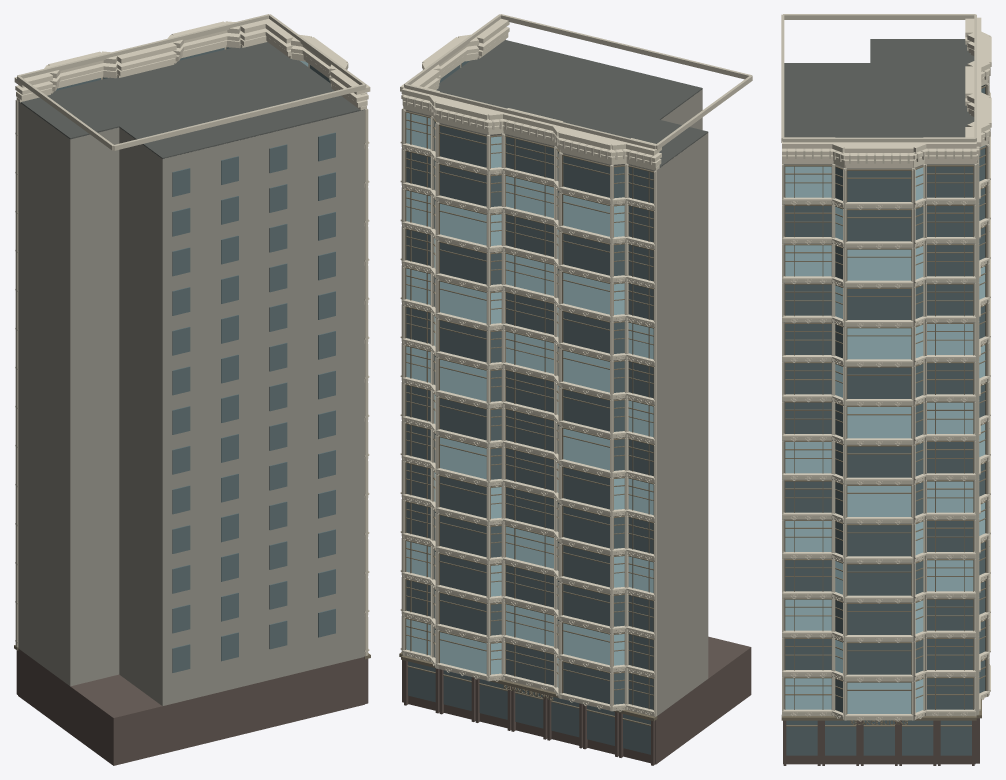
The model's file is reliance_building.glb.
The picture shows the model from 3 angles, left to right: view 1: azimuth 30°, elevation 25°; view 2: azimuth 150°, elevation 25°; view 3: azimuth 270°, elevation 25°; orthographic projection.
Visible parts, largest first — view 1: Rear glazed brick party walls, Unoccupied Chicago window glass, Flat roof membrane, Polished Scotch granite podium, Raised Gothic terra cotta, Glazed cream terra cotta; view 2: Unoccupied Chicago window glass, Raised Gothic terra cotta, Night occupied Chicago window glass, Rear glazed brick party walls, Glazed cream terra cotta, Bronze Chicago window sash, Flat roof membrane, Polished Scotch granite podium; view 3: Unoccupied Chicago window glass, Raised Gothic terra cotta, Night occupied Chicago window glass, Glazed cream terra cotta, Bronze Chicago window sash, Flat roof membrane, Rear glazed brick party walls, Polished Scotch granite podium.
Part boxes in pixels (x1=…): Rear glazed brick party walls: x1=18, y1=101, x2=364, y2=706; Unoccupied Chicago window glass: x1=56, y1=47, x2=335, y2=672; Flat roof membrane: x1=19, y1=42, x2=364, y2=158; Polished Scotch granite podium: x1=16, y1=648, x2=368, y2=765; Raised Gothic terra cotta: x1=14, y1=19, x2=370, y2=653; Glazed cream terra cotta: x1=15, y1=14, x2=367, y2=655; Unoccupied Chicago window glass: x1=406, y1=61, x2=653, y2=754; Raised Gothic terra cotta: x1=400, y1=18, x2=661, y2=716; Night occupied Chicago window glass: x1=406, y1=112, x2=653, y2=687; Rear glazed brick party walls: x1=406, y1=89, x2=708, y2=715; Glazed cream terra cotta: x1=402, y1=14, x2=752, y2=716; Bronze Chicago window sash: x1=399, y1=64, x2=657, y2=726; Flat roof membrane: x1=407, y1=40, x2=708, y2=167; Polished Scotch granite podium: x1=402, y1=636, x2=751, y2=765; Unoccupied Chicago window glass: x1=785, y1=85, x2=985, y2=755; Raised Gothic terra cotta: x1=782, y1=17, x2=991, y2=721; Night occupied Chicago window glass: x1=785, y1=145, x2=985, y2=713; Glazed cream terra cotta: x1=781, y1=14, x2=990, y2=720; Bronze Chicago window sash: x1=781, y1=85, x2=986, y2=726; Flat roof membrane: x1=784, y1=39, x2=974, y2=137; Rear glazed brick party walls: x1=783, y1=164, x2=974, y2=709; Polished Scotch granite podium: x1=783, y1=718, x2=979, y2=765.
Size of the model in its own units: 27.39 by 60.96 by 18.55.
